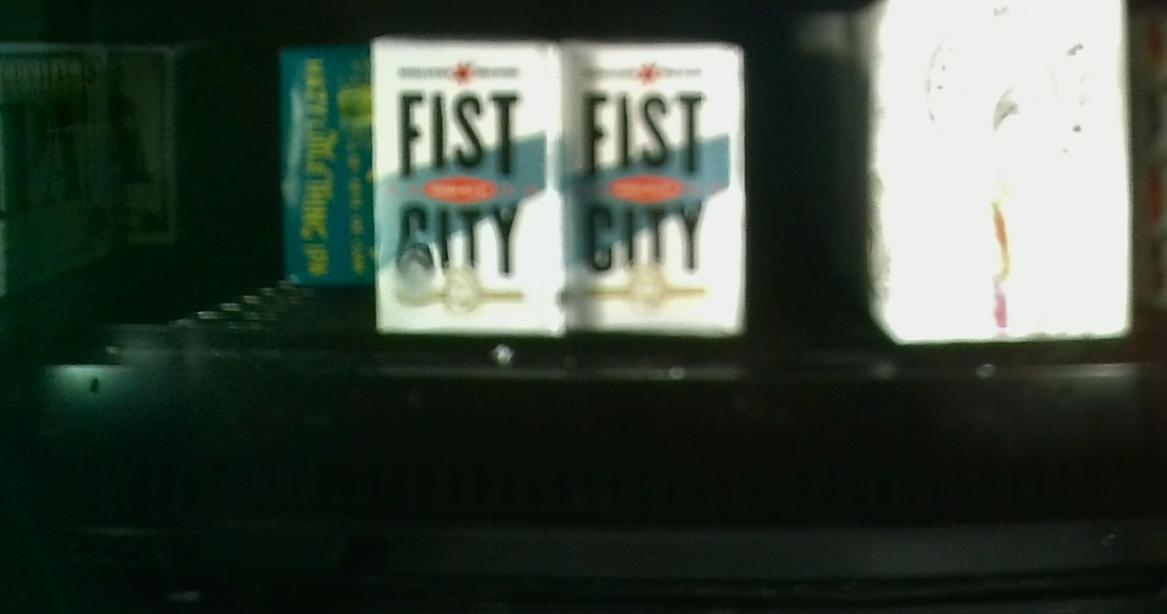bottle: (847, 4, 1138, 341), (372, 39, 566, 335), (565, 38, 743, 337), (277, 43, 370, 287)
